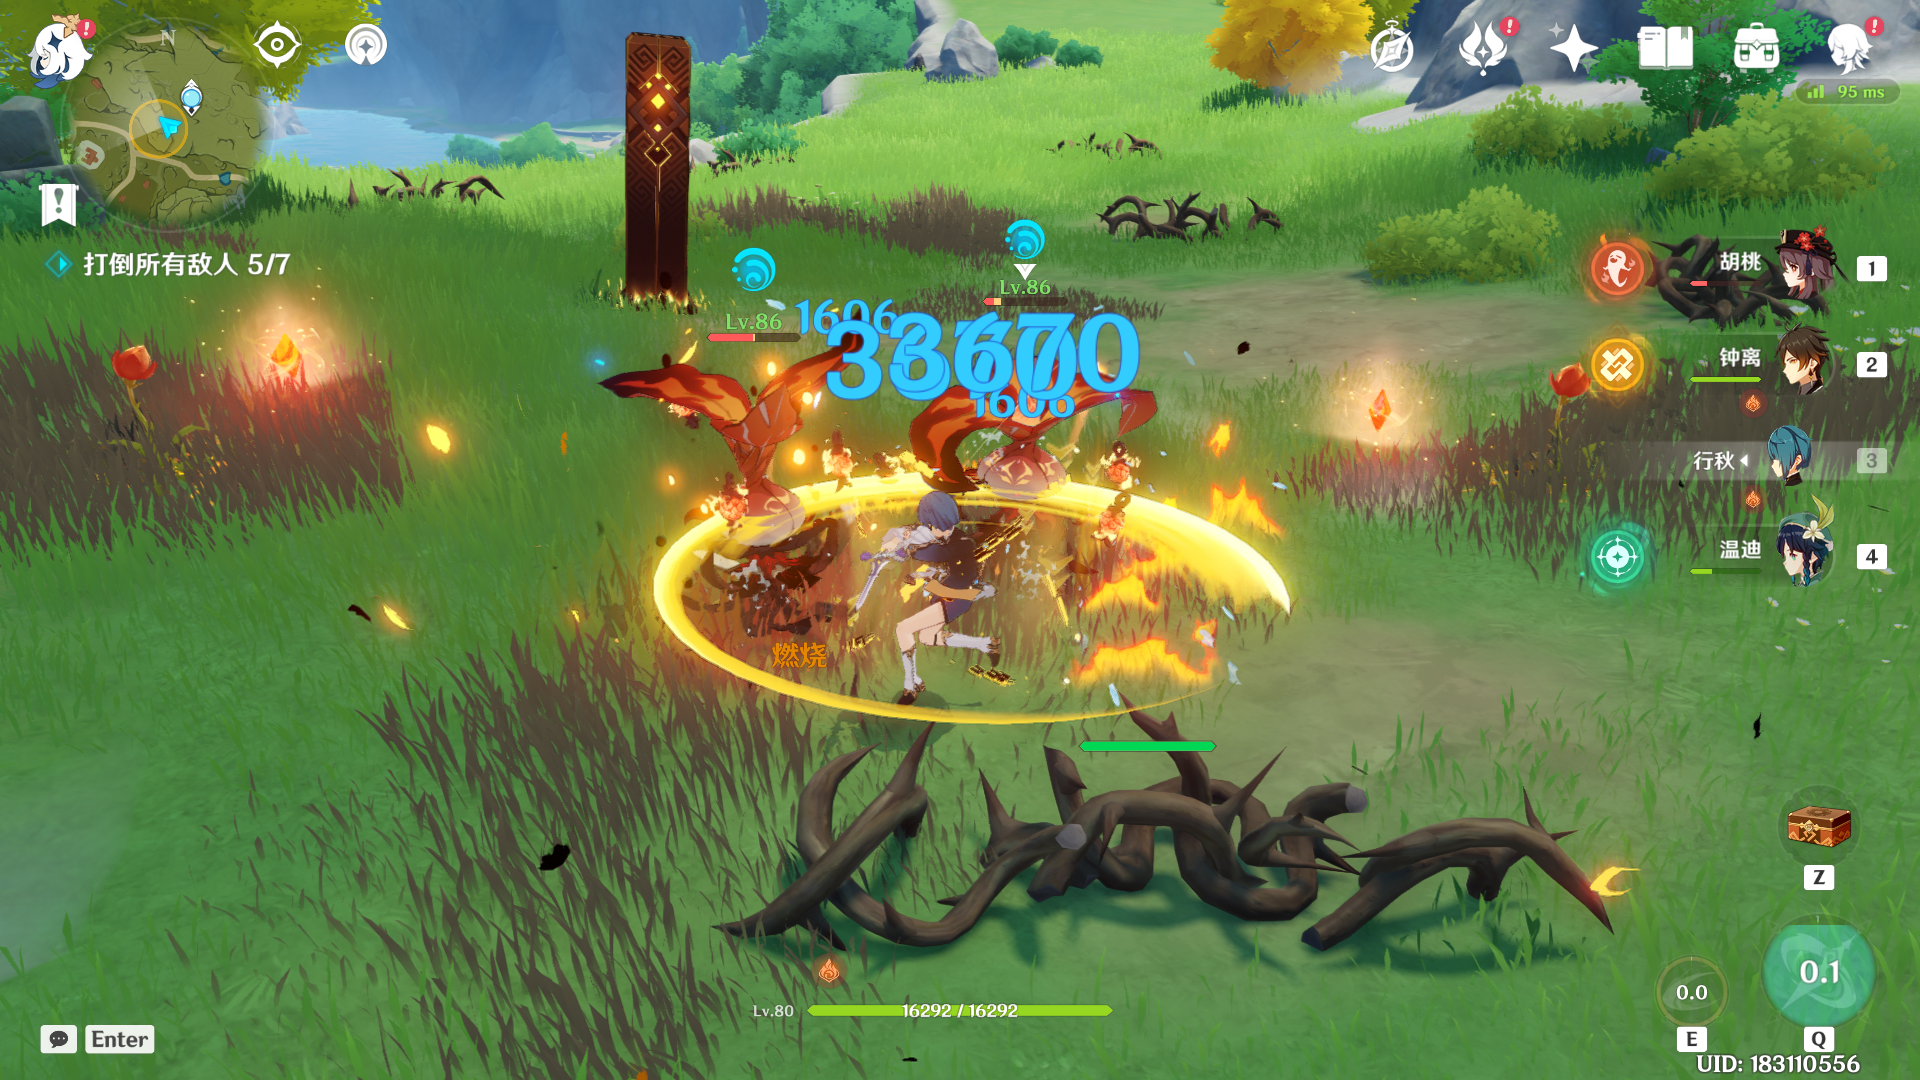character: (857, 469, 1050, 713)
